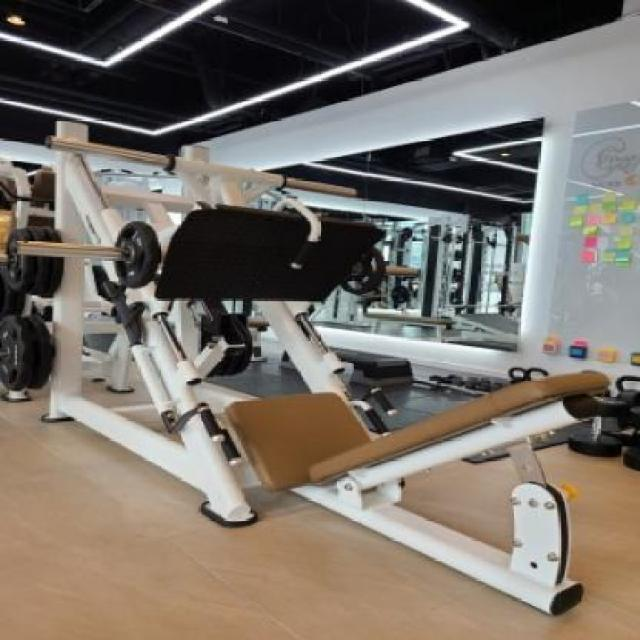leg press: (0, 112, 640, 640)
